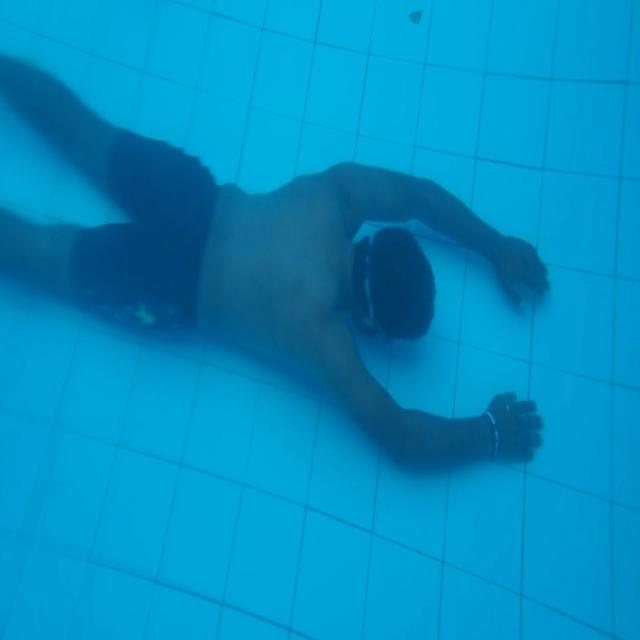Drowning: (0, 58, 550, 478)
